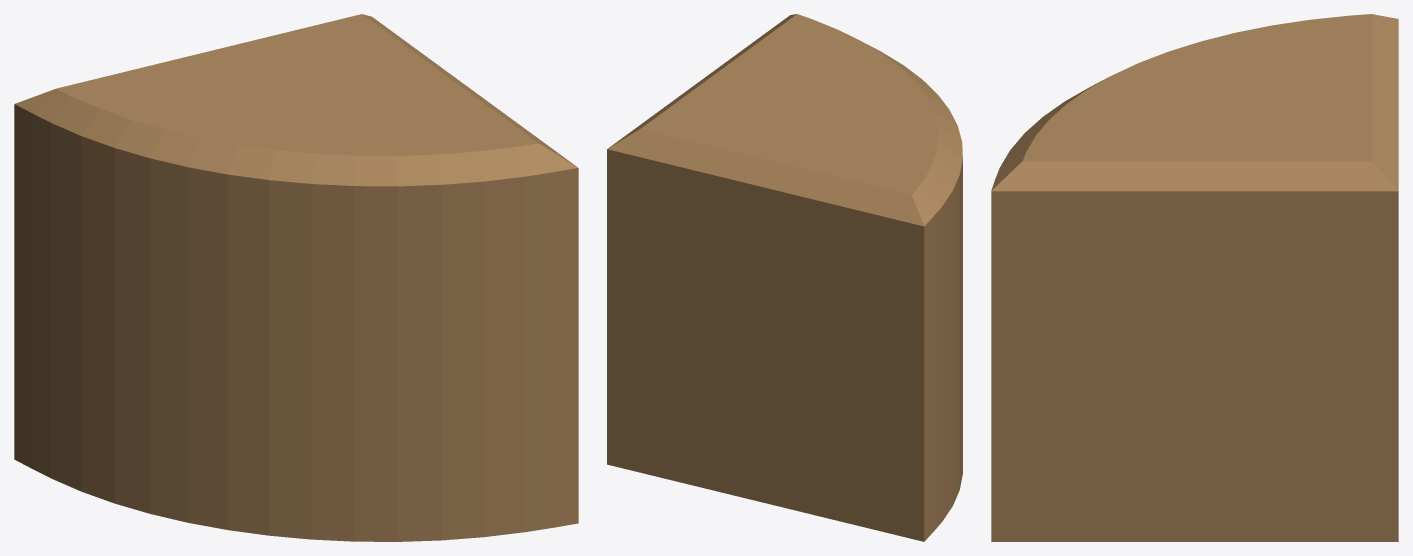
File: wallCornerRound.fbx
The picture shows the model from 3 angles, left to right: view 1: azimuth 30°, elevation 25°; view 2: azimuth 150°, elevation 25°; view 3: azimuth 270°, elevation 25°; orthographic projection. The views are drawn at different scales.
Parts seen in each view (by area): view 1: wallCornerRound; view 2: wallCornerRound; view 3: wallCornerRound.
Boxes of the visible parts, x1=… form: wallCornerRound: x1=14, y1=14, x2=578, y2=541; wallCornerRound: x1=607, y1=14, x2=962, y2=541; wallCornerRound: x1=991, y1=14, x2=1398, y2=541.
Size of the model in its own units: 100 by 100 by 100.
